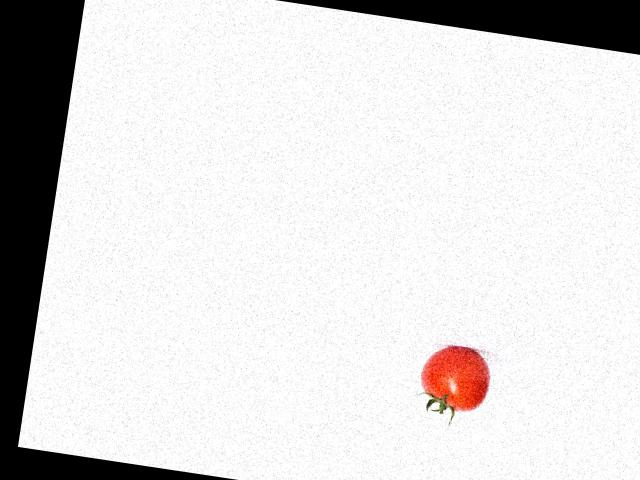tomato: (417, 342, 494, 415)
